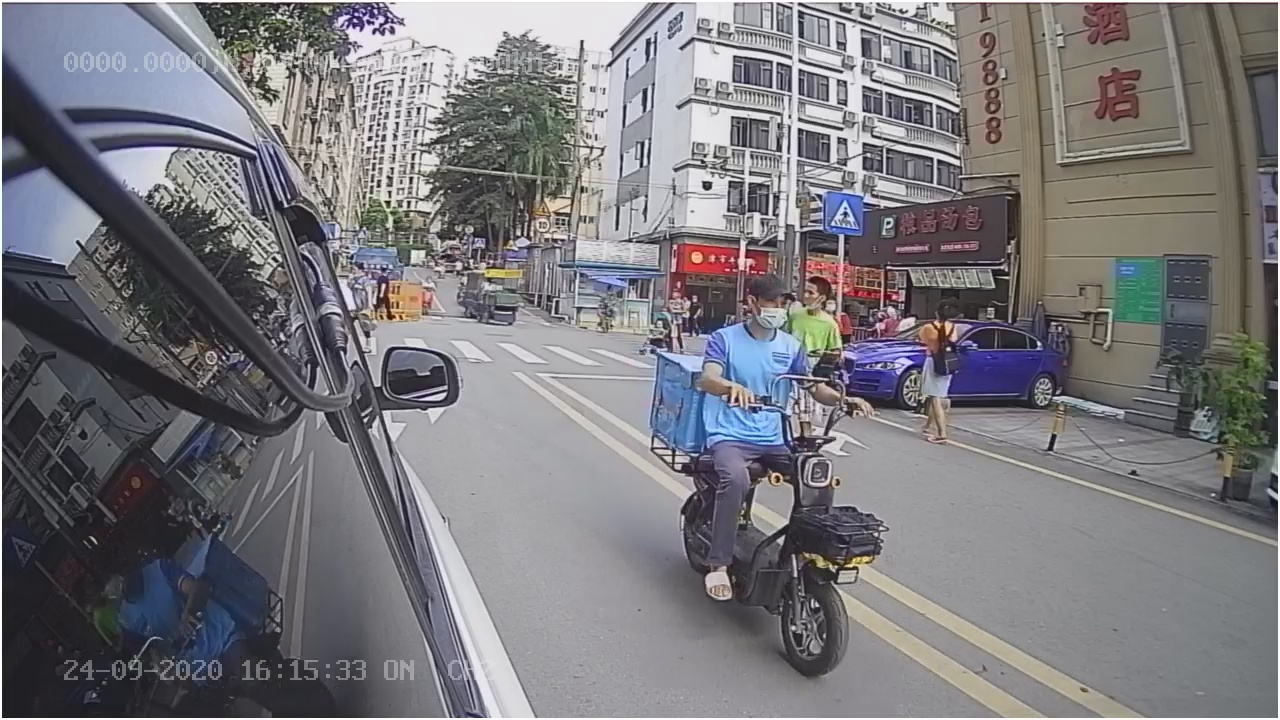person: (629, 277, 894, 674)
